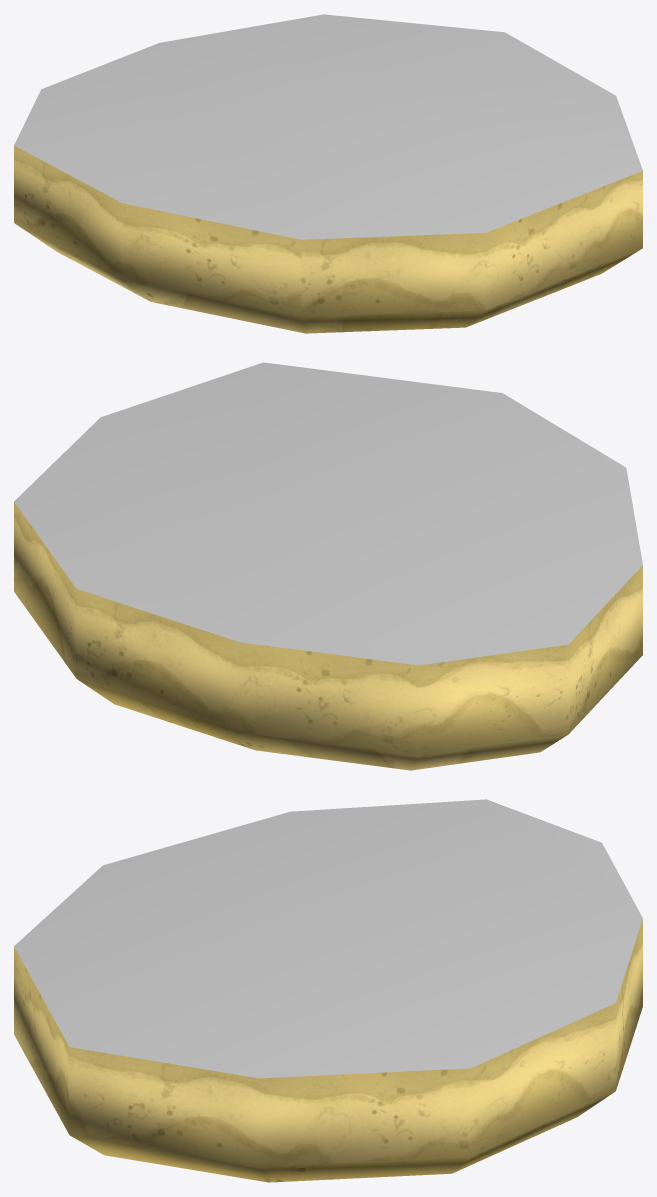
Rendered from up and down colision.fbx.
The picture shows the model from 3 angles, top to bottom: view 1: azimuth 30°, elevation 25°; view 2: azimuth 150°, elevation 25°; view 3: azimuth 270°, elevation 25°; orthographic projection. The views are drawn at different scales.
Visible parts, largest first — view 1: PolyShape_62_6; view 2: PolyShape_62_6; view 3: PolyShape_62_6.
Boxes of the visible parts, x1,y1,x2,y2 form: PolyShape_62_6: (14, 14, 642, 333); PolyShape_62_6: (14, 362, 642, 770); PolyShape_62_6: (14, 799, 642, 1182).
Bounding box in the file's own units: 0.1501 × 0.0428 × 0.143.
